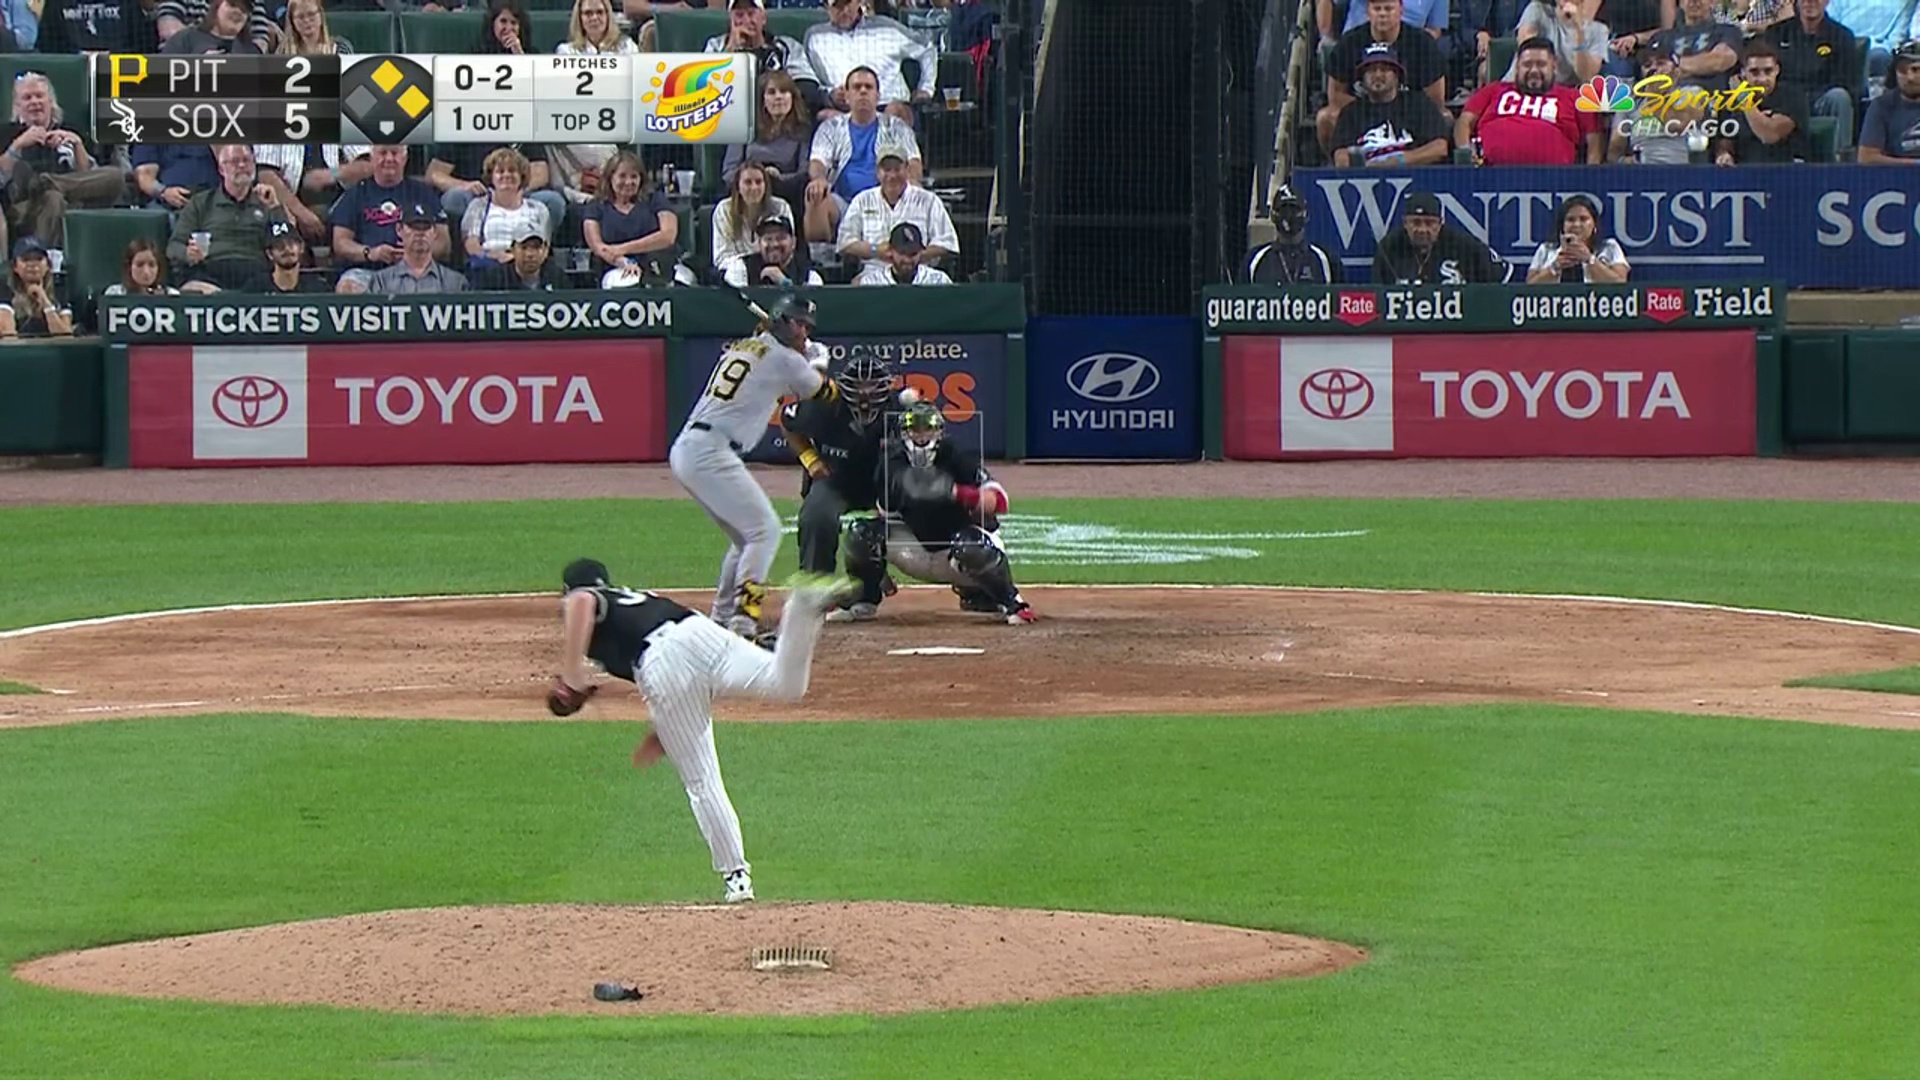baseball: (898, 386, 916, 405)
